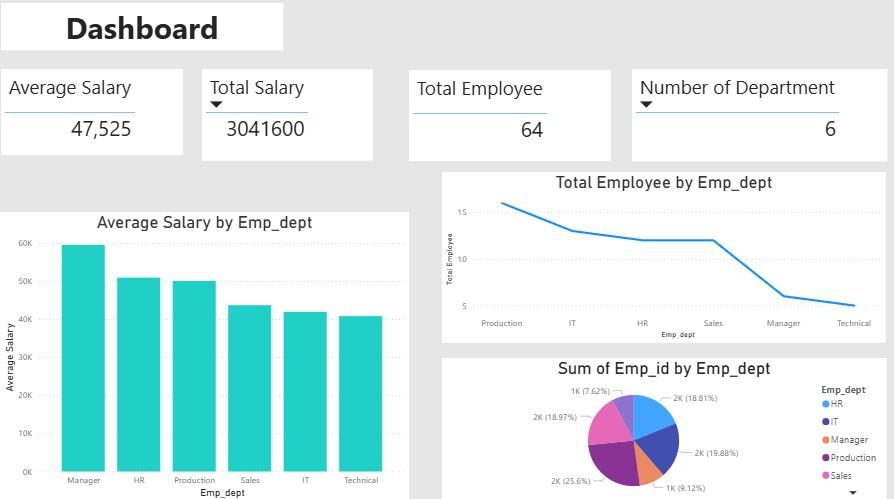

What the dashboard file says about the page in this screenshot:
{"tool":"powerbi","page":{"name":"Page 1","canvas":[1280,720],"ordinal":0},"visuals":[{"type":"tableEx","fields":{"Values":["Sheet1.Total Sallary"]},"box":[286,106,242,130],"z":0},{"type":"tableEx","fields":{"Values":["Sheet1.Total Employee"]},"box":[580,107.7,286.2,129.2],"z":1000},{"type":"tableEx","fields":{"Values":["Sheet1.Average Sallary"]},"box":[2,106,258,122],"z":2000},{"type":"tableEx","fields":{"Values":["Sheet1.Number of Department"]},"box":[895.4,106.2,361.5,130.8],"z":3000},{"type":"clusteredColumnChart","fields":{"Category":["Sheet1.Emp_dept"],"Y":["Sheet1.Average Sallary"]},"box":[0,309.2,580,410.8],"z":4000},{"type":"lineChart","fields":{"Y":["Sheet1.Total Employee"],"Category":["Sheet1.Emp_dept"]},"box":[626.2,252.3,629.2,241.5],"z":5000},{"type":"pieChart","fields":{"Series":["Sheet1.Emp_dept"],"Y":["Sum(Sheet1.Emp_id)"]},"box":[626,516,630,204],"z":6000},{"type":"textbox","box":[1.8,12.3,399.7,66.9],"z":7000}]}

Visuals, with their boxes in screenshot pixels (x1, y1, x2, y2), scaled from the page's 1280x720 canvas onto the 894x499 screenshot:
tableEx - Sheet1.Total Sallary: pyautogui.locateOnScreen(200, 73, 369, 164)
tableEx - Sheet1.Total Employee: pyautogui.locateOnScreen(405, 75, 605, 164)
tableEx - Sheet1.Average Sallary: pyautogui.locateOnScreen(1, 73, 182, 158)
tableEx - Sheet1.Number of Department: pyautogui.locateOnScreen(625, 74, 878, 164)
clusteredColumnChart - Sheet1.Emp_dept x Sheet1.Average Sallary: pyautogui.locateOnScreen(0, 214, 405, 498)
lineChart - Sheet1.Total Employee x Sheet1.Emp_dept: pyautogui.locateOnScreen(437, 175, 877, 342)
pieChart - Sheet1.Emp_dept x Sum(Sheet1.Emp_id): pyautogui.locateOnScreen(437, 358, 877, 498)
textbox: pyautogui.locateOnScreen(1, 9, 280, 55)
